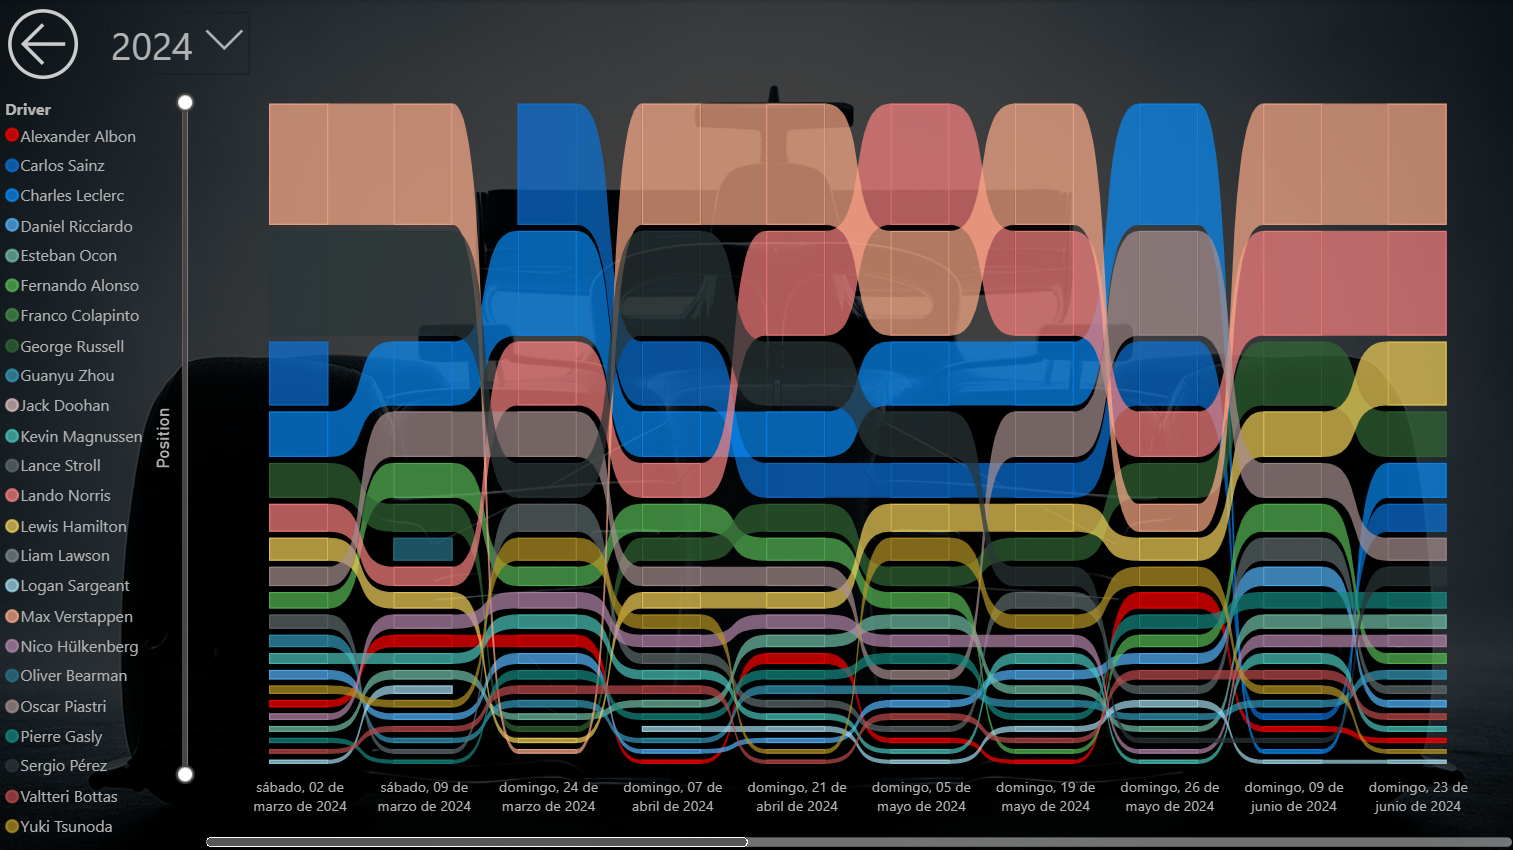

Layout of this report page (visuals, bound fields, positions):
{"tool":"powerbi","page":{"name":"Constructors - Drivers","canvas":[1280,720],"ordinal":1},"visuals":[{"type":"slicer","fields":{"Values":["constructor_year_bridge.name"]},"box":[78.5,0,370.2,74.3],"z":0},{"type":"slicer","fields":{"Values":["drivers_races_year_bridge.year"]},"box":[448.7,0,298.7,74.3],"z":1000},{"type":"pivotTable","fields":{"Values":["Min(drivers_races_year_bridge.racePosition)","Sum(drivers_races_year_bridge.racePoints)","Min(drivers_races_year_bridge.sprintPosition)","Sum(drivers_races_year_bridge.sprintPoints)","Sum(drivers_races_year_bridge.points)"],"Rows":["races.Race Name for Filter"],"Columns":["drivers_races_year_bridge.name"]},"box":[0,74.3,1280,469.3],"z":2000},{"type":"lineChart","fields":{"Y":["Sum(drivers_races_year_bridge.points)"],"Series":["drivers_races_year_bridge.name"],"Category":["drivers_races_year_bridge.date"]},"box":[0,543.7,1280,176.2],"z":3000},{"type":"actionButton","box":[0,0,78.5,74.3],"z":4000},{"type":"actionButton","box":[1033.6,0,246.2,74.2],"z":4001}]}

Visuals, with their boxes in screenshot pixels (x1, y1, x2, y2), scaled from the page's 1280x720 canvas onto the 1513x850 screenshot:
slicer - constructor_year_bridge.name: 93:0:530:88
slicer - drivers_races_year_bridge.year: 530:0:883:88
pivotTable - Min(drivers_races_year_bridge.racePosition) x Sum(drivers_races_year_bridge.racePoints): 0:88:1512:642
lineChart - Sum(drivers_races_year_bridge.points) x drivers_races_year_bridge.name: 0:642:1512:849
actionButton: 0:0:93:88
actionButton: 1222:0:1512:88
